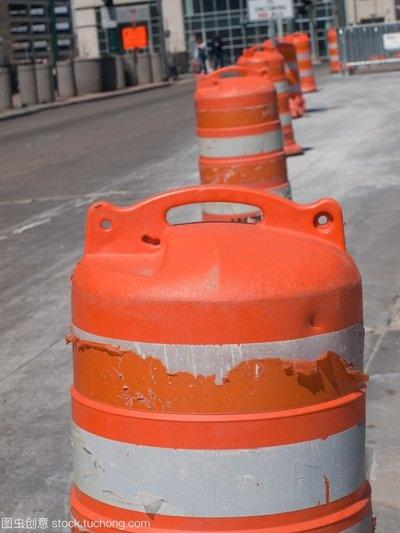cone_barrel: (61, 163, 369, 532), (192, 67, 289, 195), (237, 39, 299, 152), (324, 24, 342, 72)
